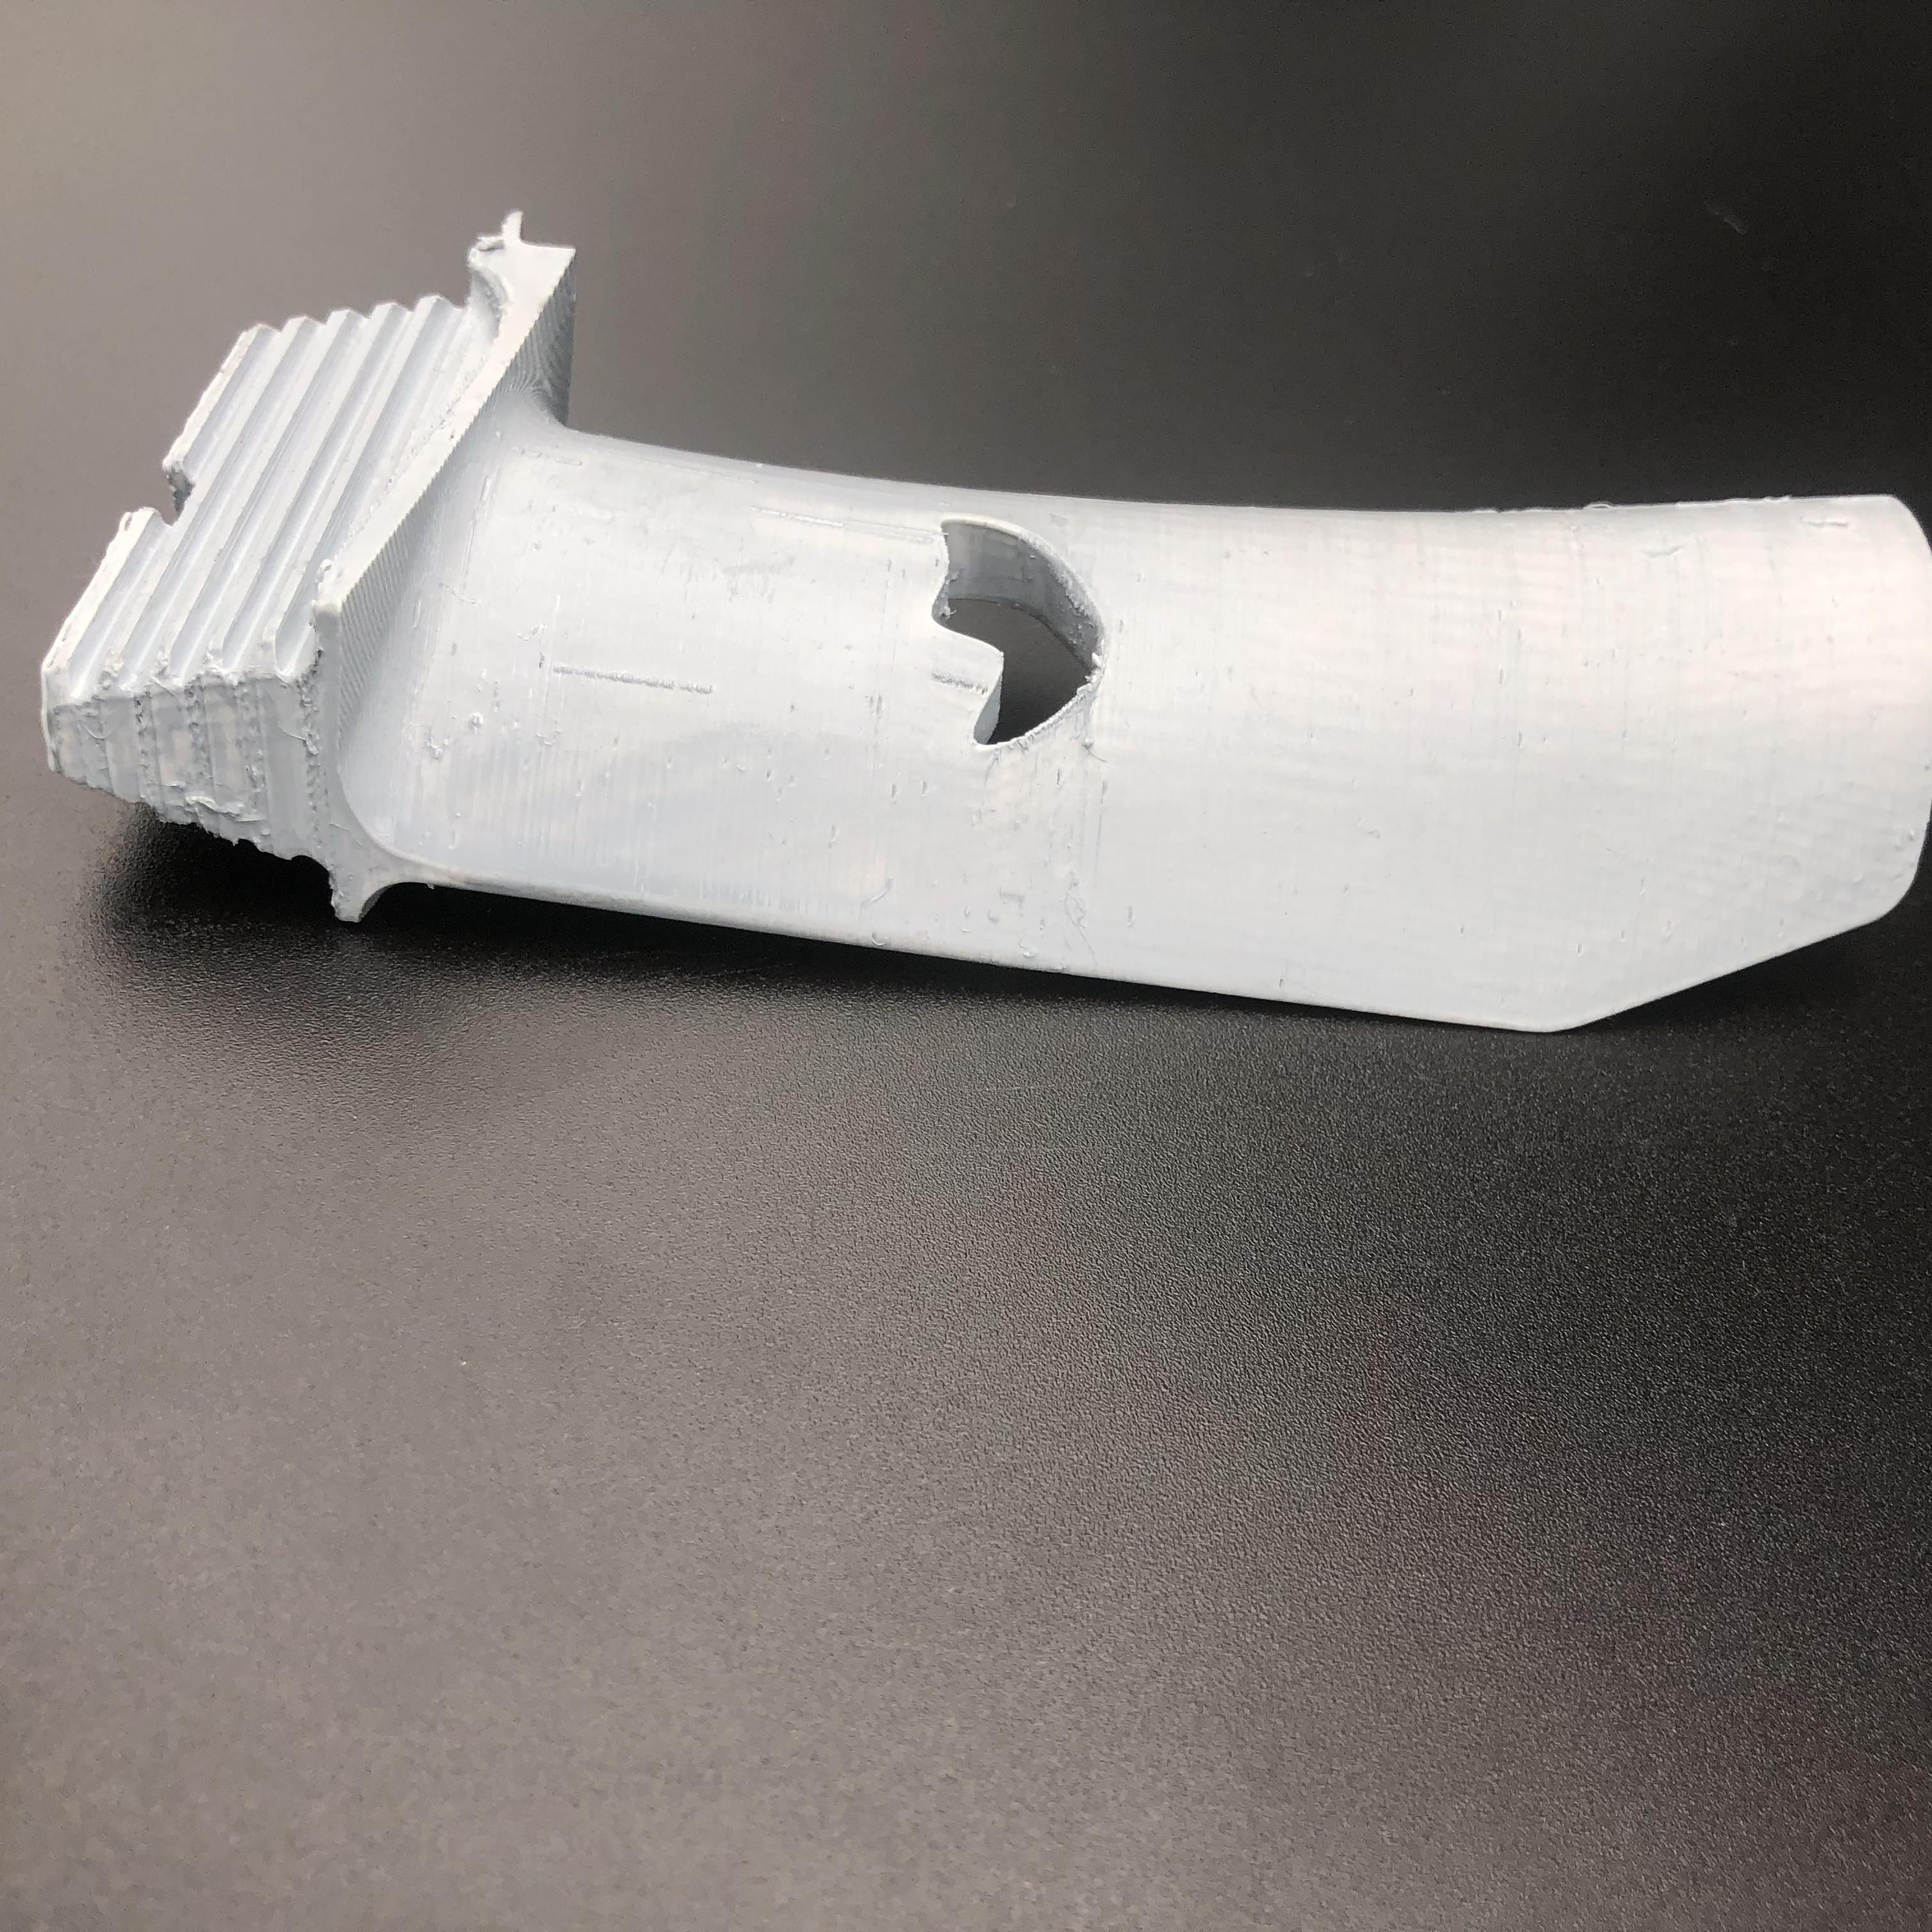breakdown: (920, 506, 1145, 750)
